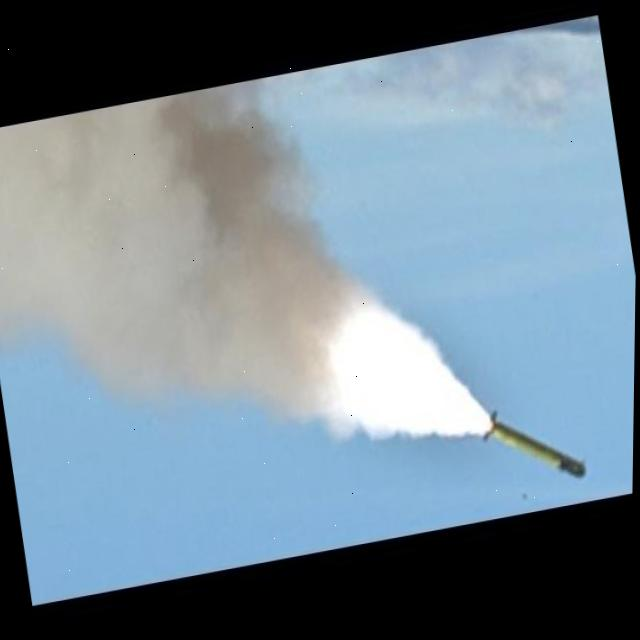missile: (475, 396, 592, 499)
